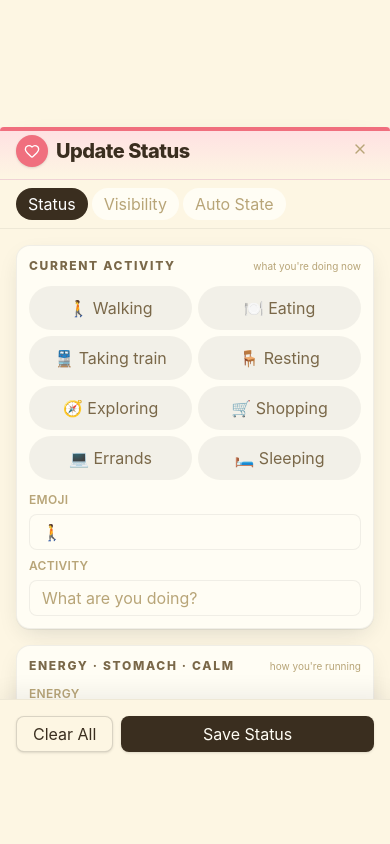
Test: TravelerStateSheet — State tab › shows a traveler-access error in role=alert when save fails with auth error
Click the button "Save Status". click: coordinates (248, 734)
box: [121, 716, 374, 752]
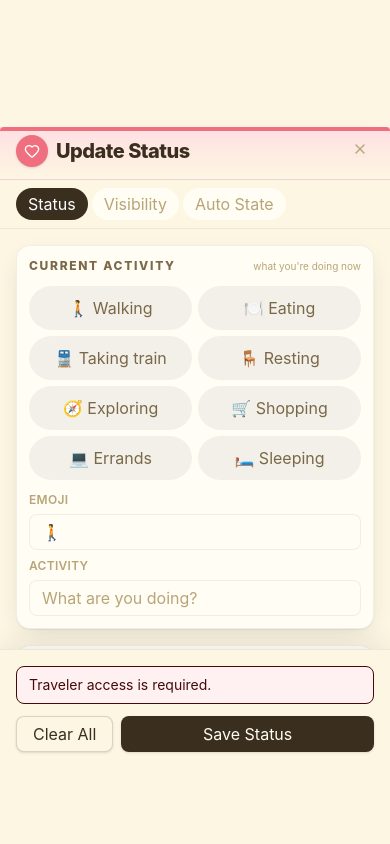
Now the message shows "Traveler access is required", box [29, 676, 211, 693]
